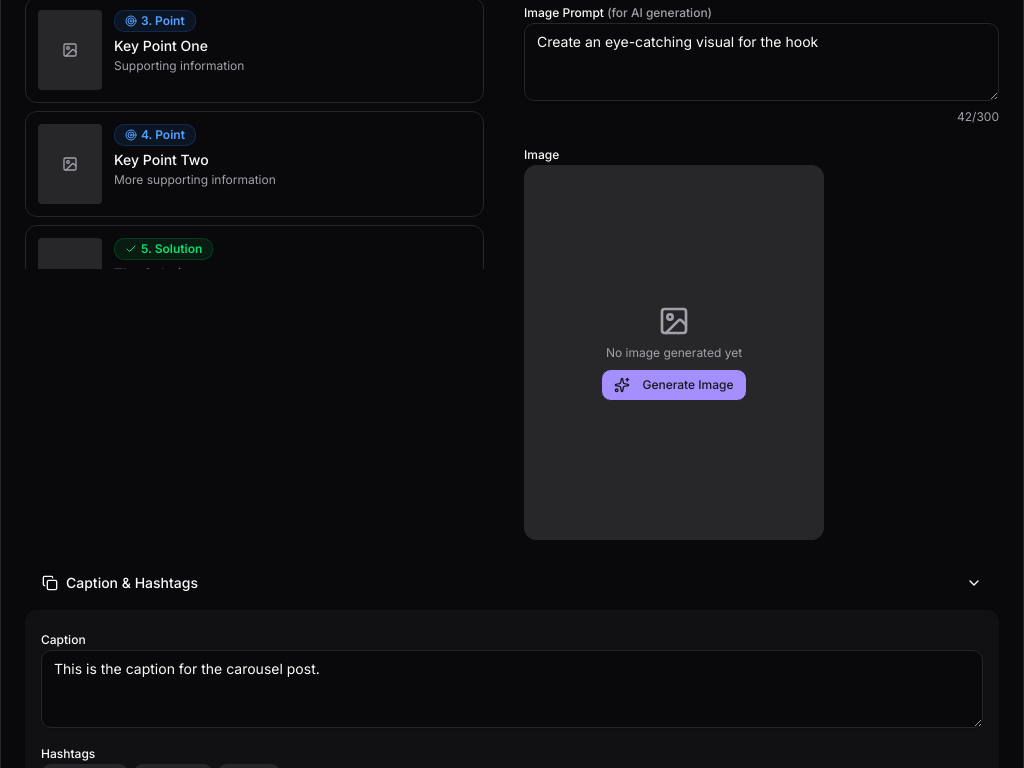
CarouselBuilder - Slide Management › updates slide thumbnail when image is generated
(page scrolled)
Find and click the Generate Image button
Step 1. Click the button "Generate Image" → (674, 384), box [601,368,746,400]
(page scrolled)
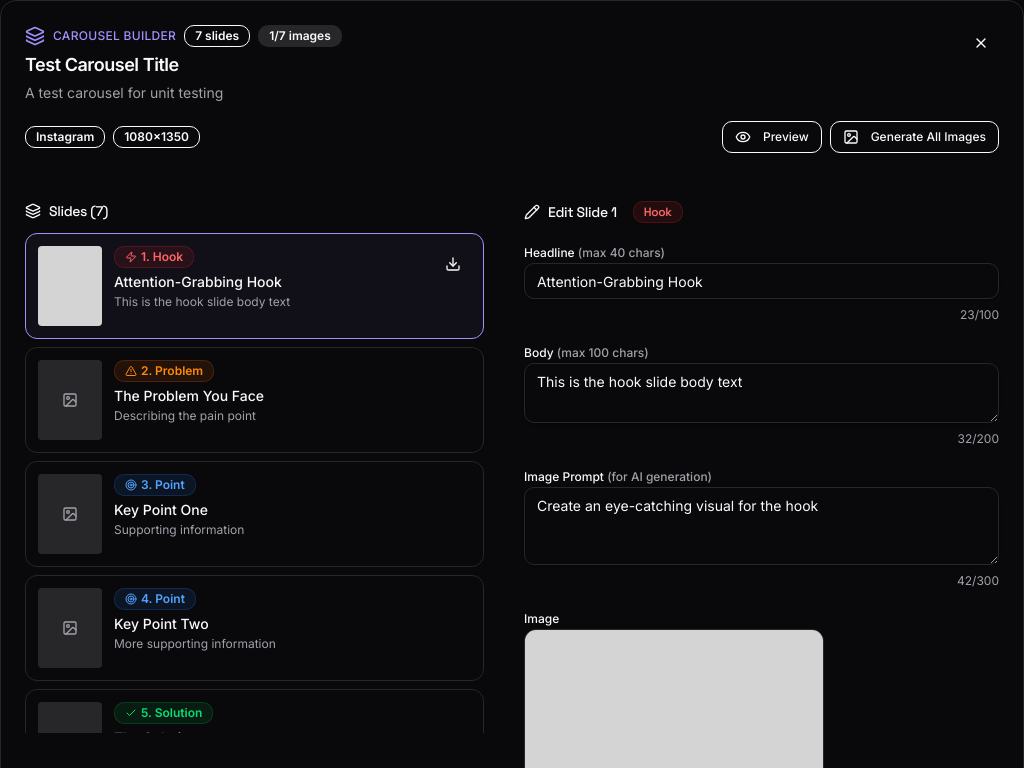
Check: the text "1/7 images" is shown, box [258,25,342,47]
